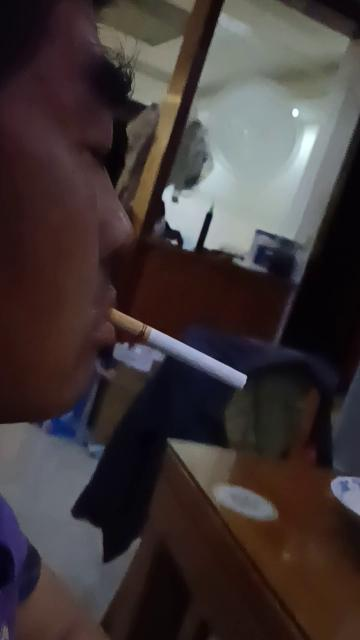Cigarette: (108, 309, 250, 393)
